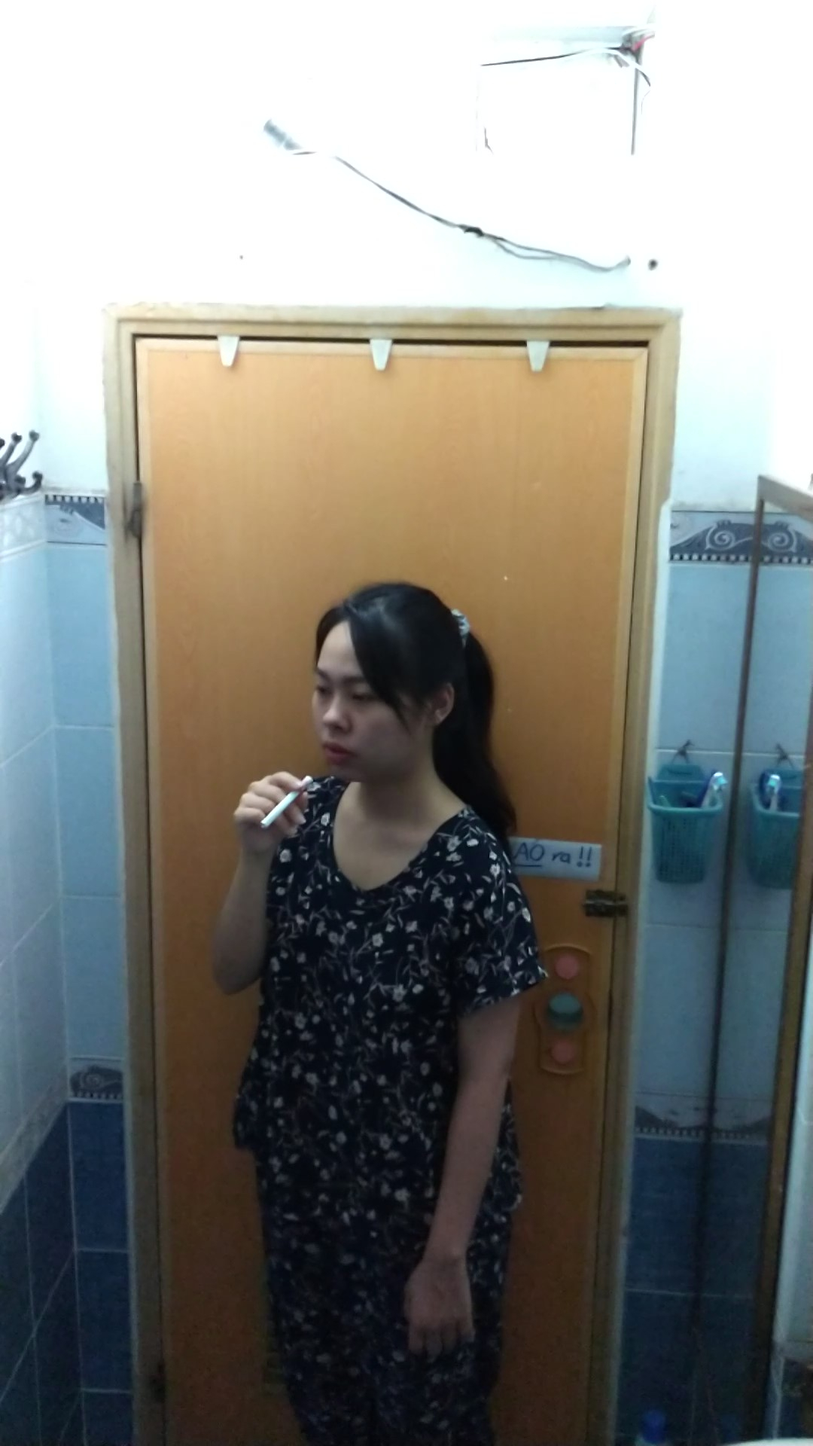cigarette: (255, 791, 303, 835)
person: (211, 570, 568, 1441)
